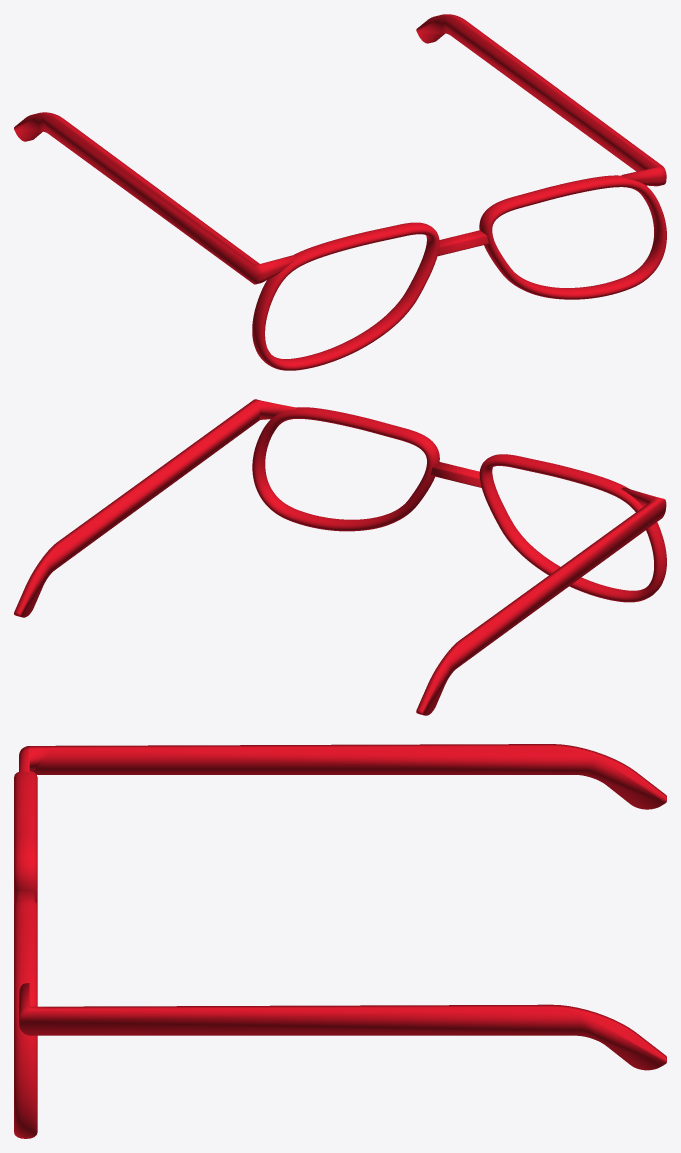
File: Glasses.glb
3 views of the same model, one above another, from view 1: azimuth 30°, elevation 25°; view 2: azimuth 150°, elevation 25°; view 3: azimuth 270°, elevation 25° (orthographic). The views are drawn at different scales.
Visible parts, largest first — view 1: Plane.002; view 2: Plane.002; view 3: Plane.002.
Boxes of the visible parts, x1,y1,x2,y2 form: Plane.002: [14, 14, 666, 370]; Plane.002: [14, 399, 666, 715]; Plane.002: [14, 744, 666, 1138].
Size of the model in its own units: 6.61 by 1.83 by 6.85.
